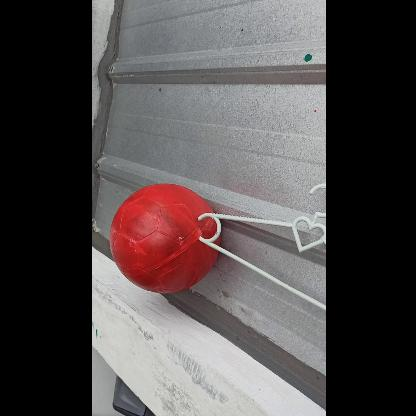red_ball: (109, 183, 219, 293)
